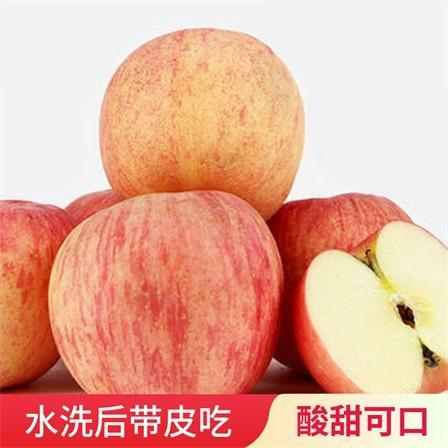apple: (47, 190, 289, 394), (97, 27, 309, 215), (288, 223, 448, 399), (267, 192, 412, 371), (1, 197, 73, 389)
